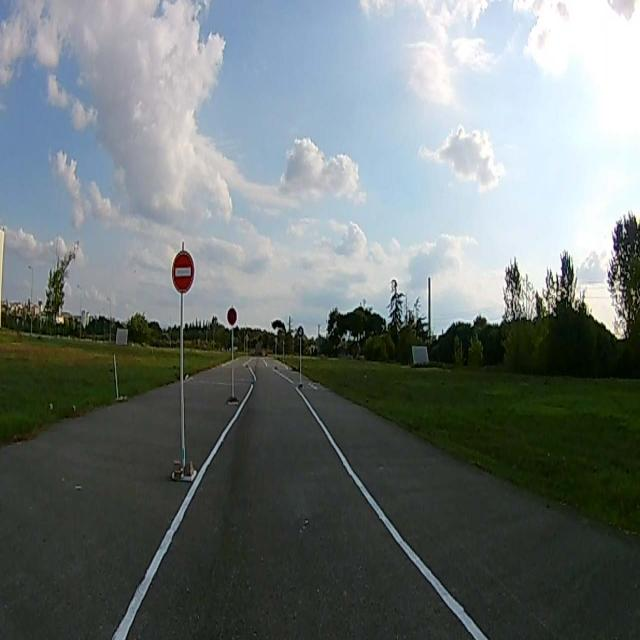girisyok: (172, 248, 195, 292)
